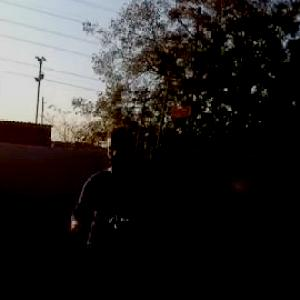follow: (66, 118, 157, 299)
